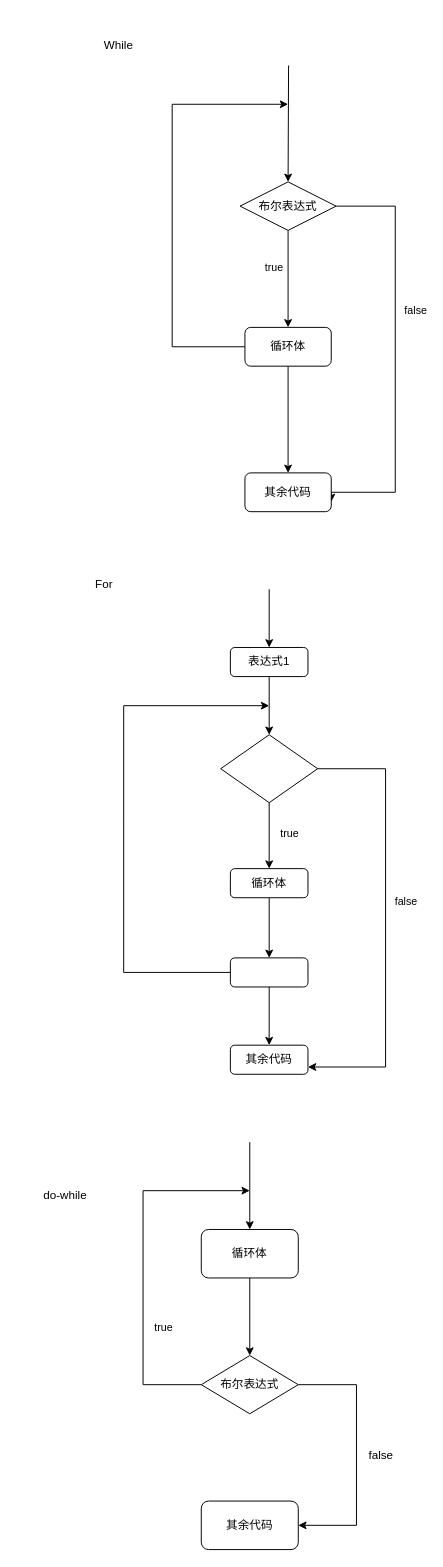
Image size: 443x1567. Some labels were removed from this diagram. Each missing label, with the box of its shape:
表达式2: (220, 734, 318, 803)
表达式3: (229, 957, 308, 987)
